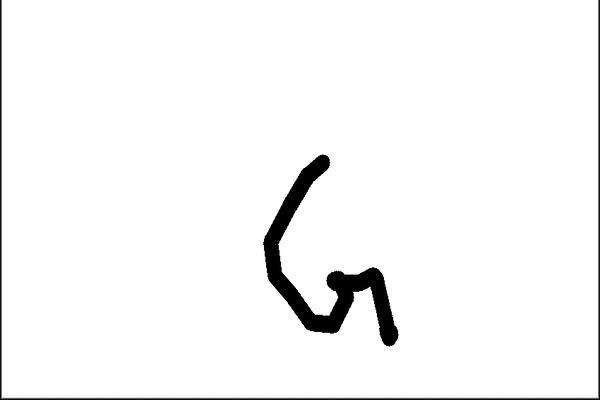G: (258, 150, 402, 348)
